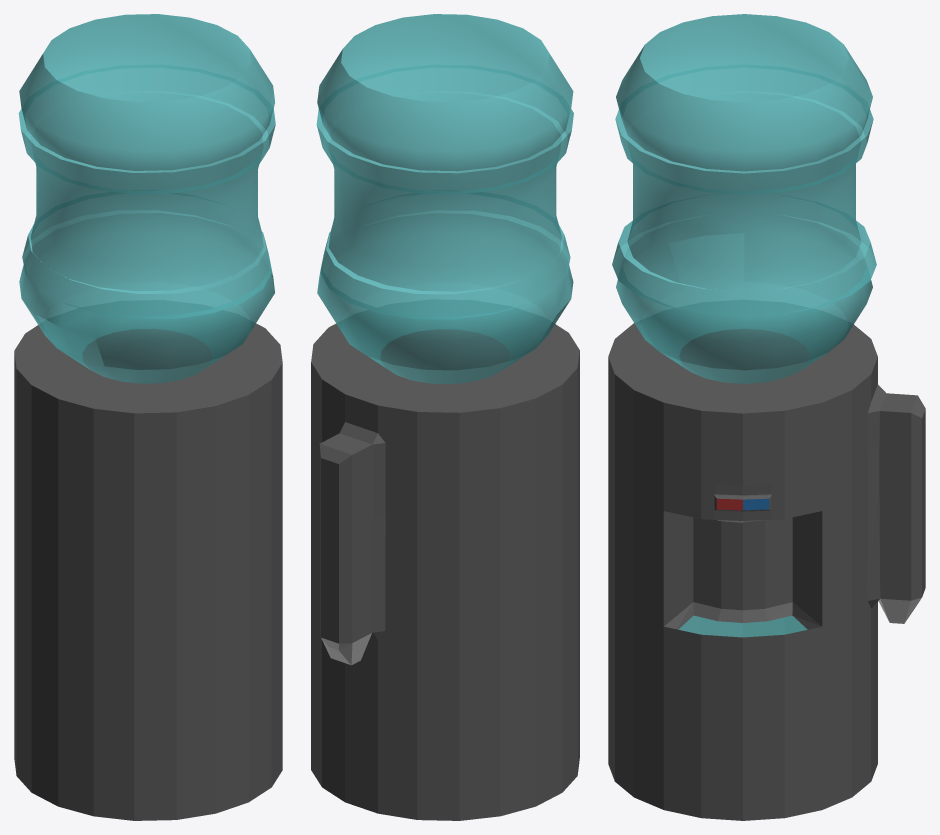
The model's file is WaterFountain2.fbx.
3 renders of one model, left to right at view 1: azimuth 30°, elevation 25°; view 2: azimuth 150°, elevation 25°; view 3: azimuth 270°, elevation 25°, orthographic.
Parts seen in each view (by area): view 1: WaterFountainBase, pasted__WaterfountinWater; view 2: WaterFountainBase, pasted__WaterfountinWater; view 3: WaterFountainBase, pasted__WaterfountinWater.
Part boxes in pixels (x1,y1,x2,y2): WaterFountainBase: [14, 323, 282, 820]; pasted__WaterfountinWater: [18, 14, 275, 383]; WaterFountainBase: [311, 323, 579, 820]; pasted__WaterfountinWater: [316, 14, 573, 384]; WaterFountainBase: [608, 323, 925, 820]; pasted__WaterfountinWater: [612, 14, 876, 383].
Size of the model in its own units: 0.6061 by 1.73 by 0.7064.
